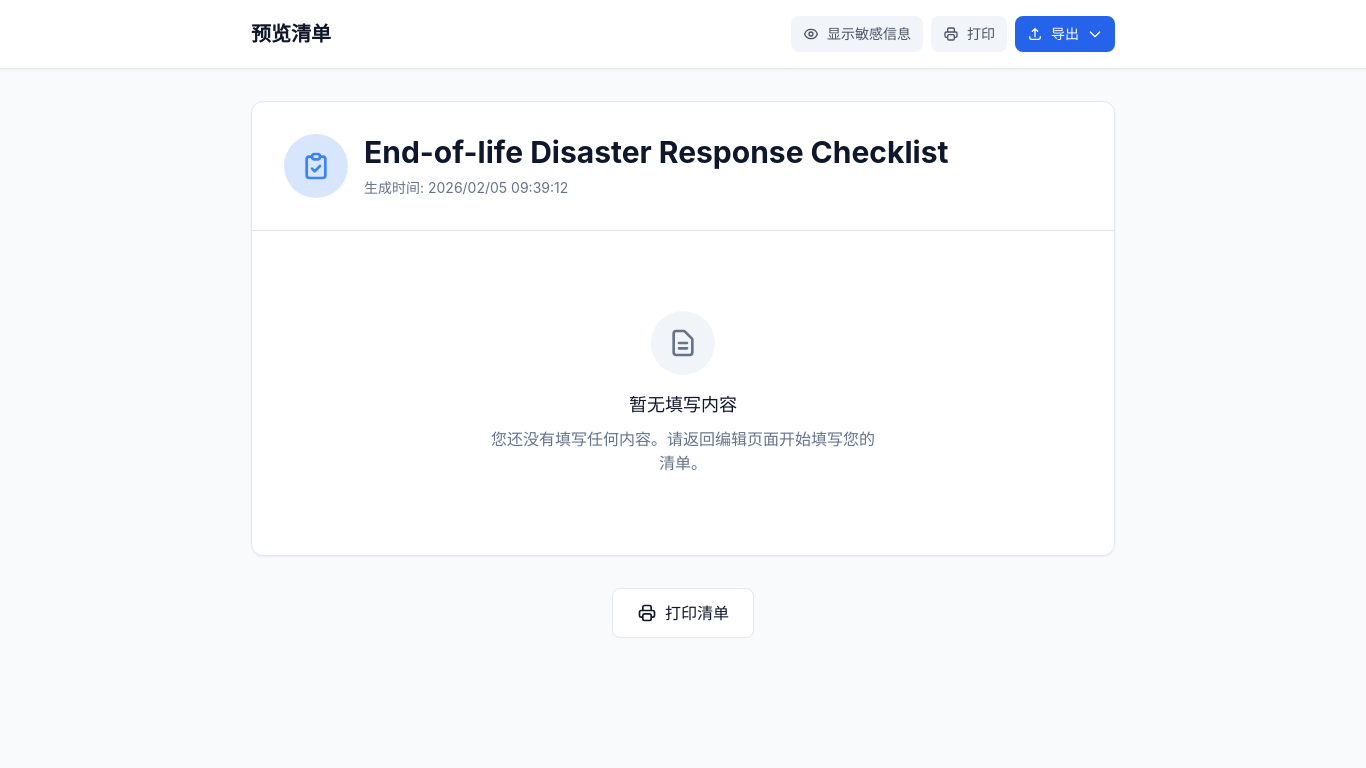
Scenario: PreviewPage › Requirement 5.5: Export to Markdown › should have Markdown export option in menu
The image size is (1366, 768).
Click the button "导出" at (1065, 34), box [1015,16,1115,52]
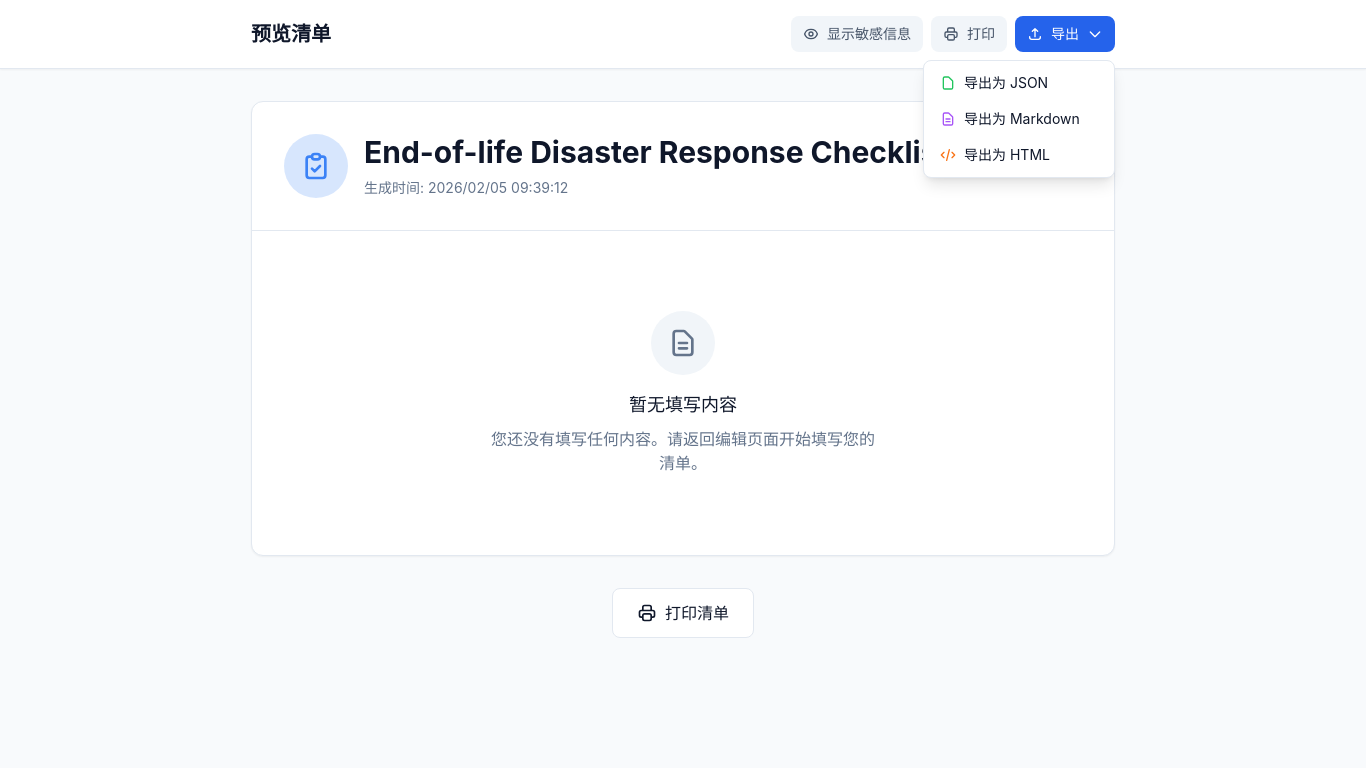
expect the menu item "导出为 Markdown" is shown: met, box [924,101,1114,137]
